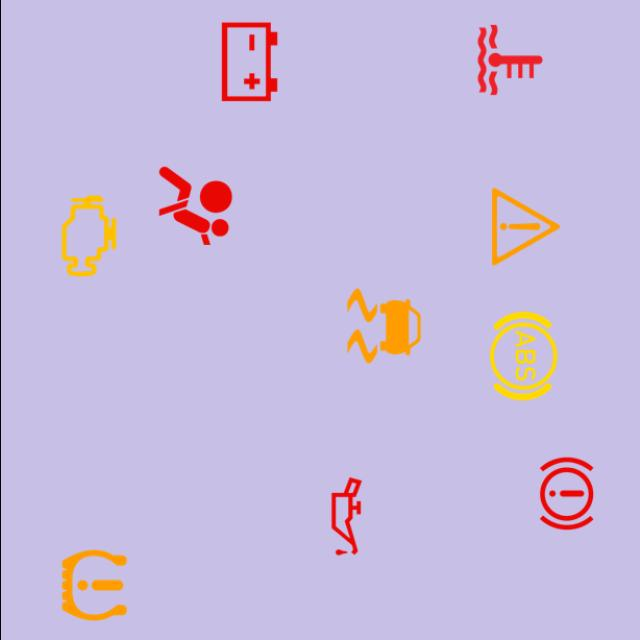Anti Lock Braking System: (474, 308, 571, 404)
Braking System Issue: (517, 445, 614, 542)
Charging System Issue: (200, 14, 297, 110)
Check Engine: (40, 188, 136, 284)
Electronic Stability Problem -ESP-: (334, 277, 432, 374)
Engine Overheating Warning Light: (460, 12, 558, 108)
Low Engine Oil Warning Light: (297, 468, 394, 565)
Low Tire Pressure Warning Light: (45, 537, 142, 634)
Master warning light: (476, 178, 574, 275)
SRS-Airbag: (146, 158, 243, 255)
